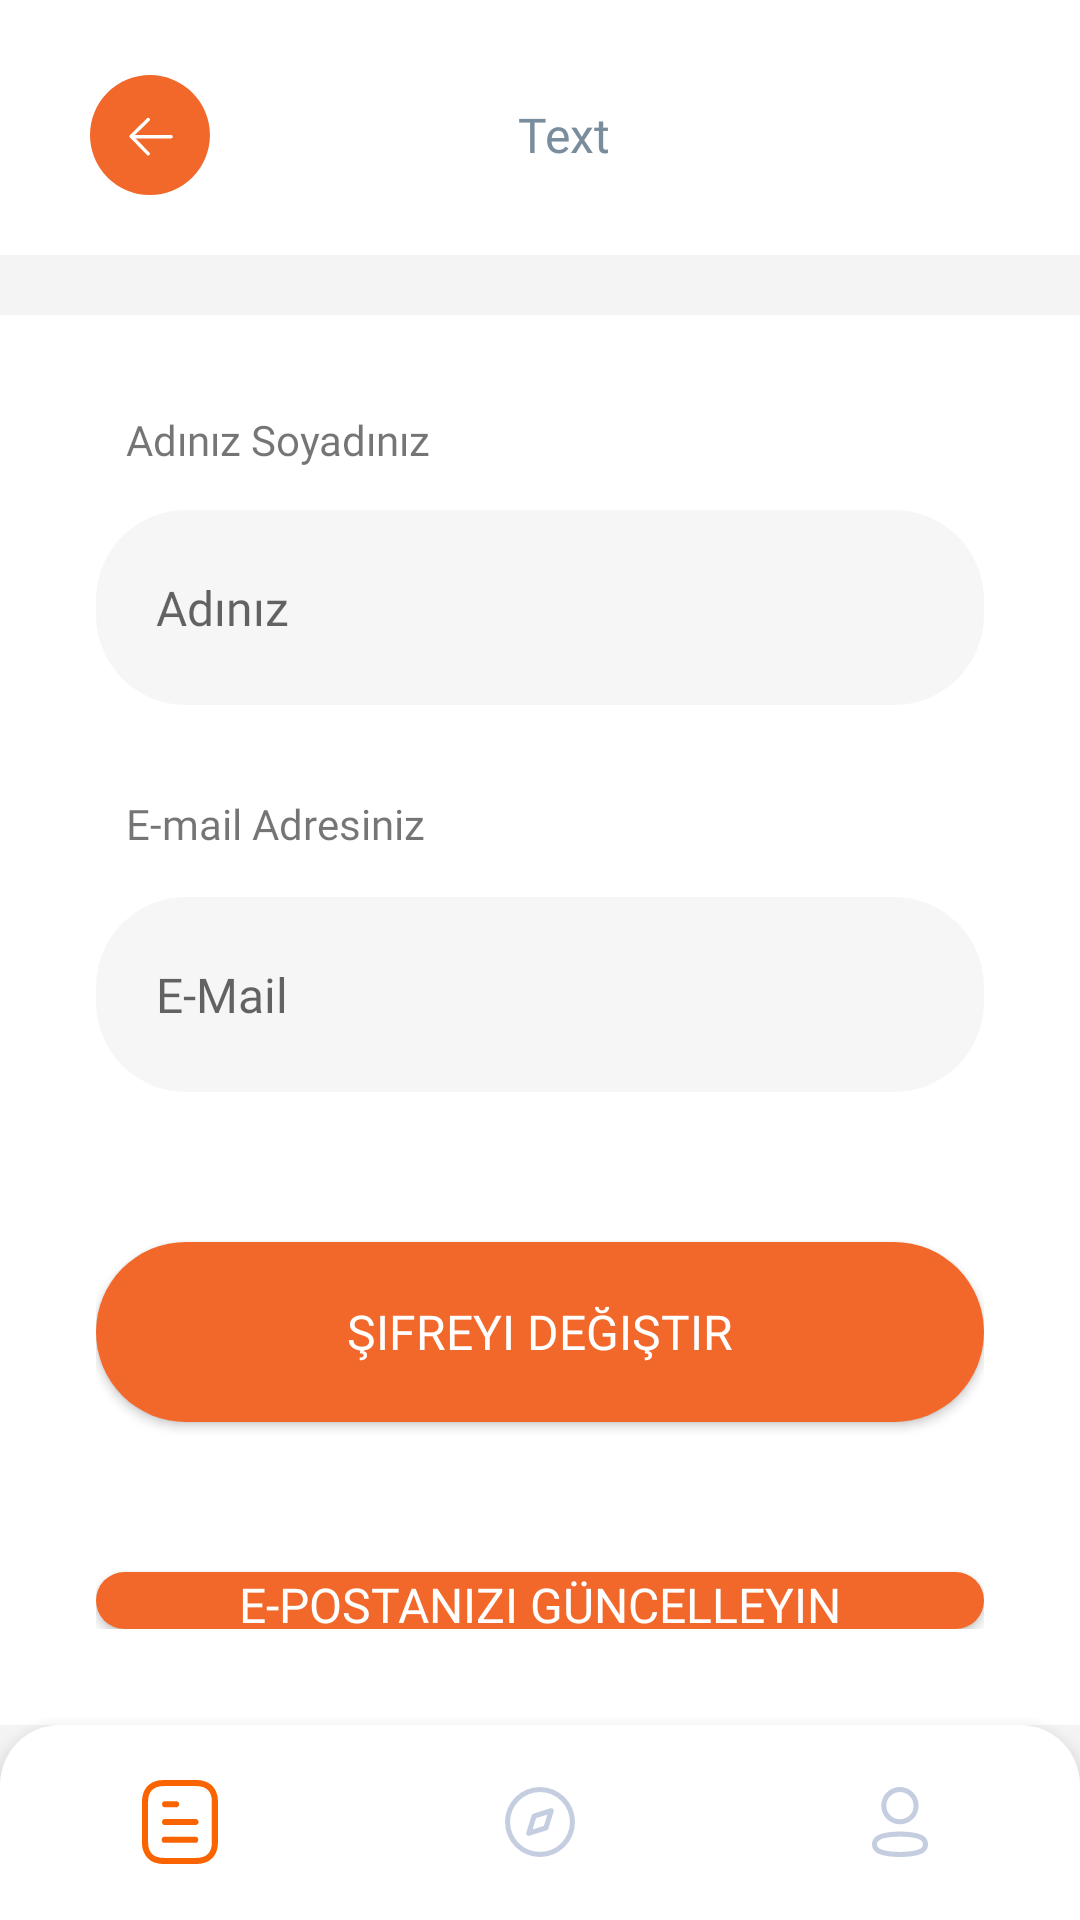

Named icons in this screenshot (1080 x 1920) and their centers, (x,y):
back: (150,135)
